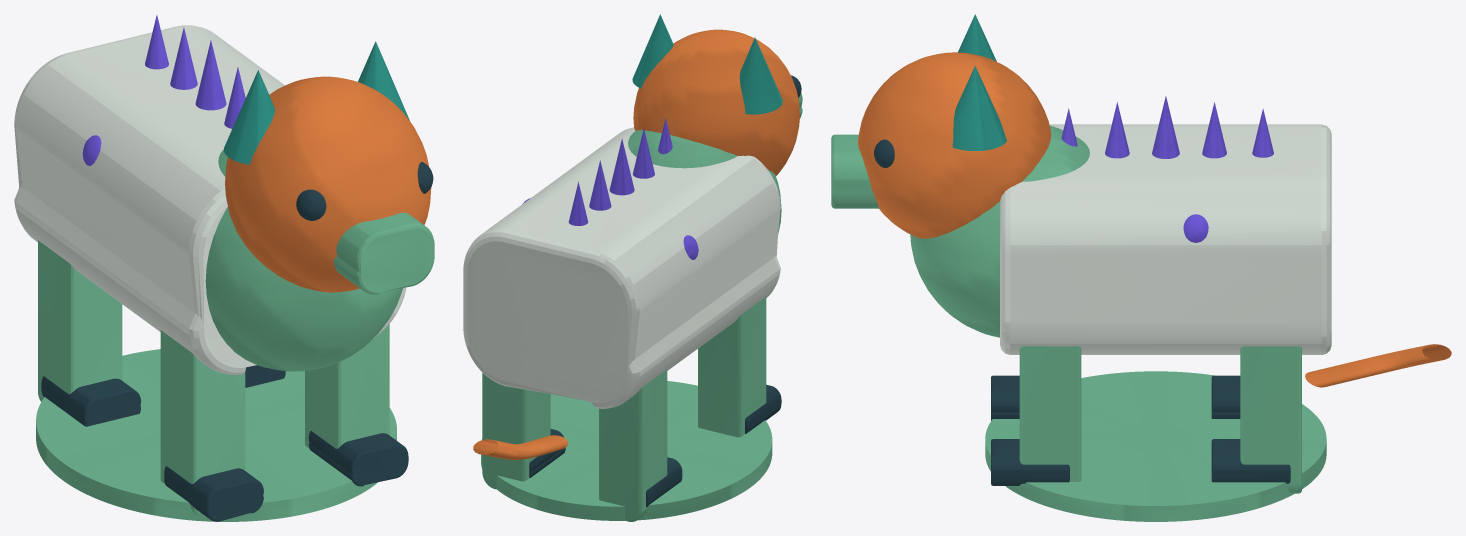
File: 0886_森林动物图鉴_蜜熊.glb
3 views of the same model, side by side, from view 1: azimuth 30°, elevation 25°; view 2: azimuth 150°, elevation 25°; view 3: azimuth 270°, elevation 25° (orthographic). The views are drawn at different scales.
Visible parts, largest first — view 1: card_0886; view 2: card_0886; view 3: card_0886.
Part boxes in pixels (<box>): card_0886: <box>14,15,434,521</box>; card_0886: <box>463,14,802,521</box>; card_0886: <box>831,14,1451,521</box>.
Bounding box in the file's own units: 0.6944 × 1 × 1.35.
